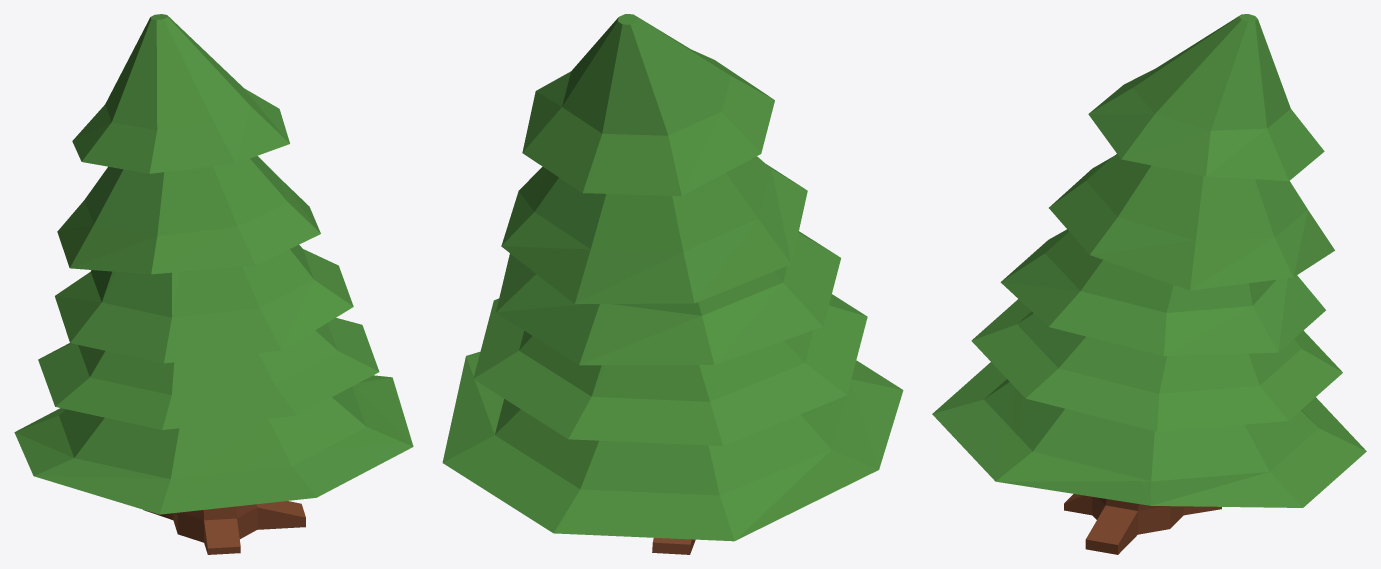
File: Ptree2.fbx
3 views of the same model, side by side, from view 1: azimuth 30°, elevation 25°; view 2: azimuth 150°, elevation 25°; view 3: azimuth 270°, elevation 25° (orthographic). The views are drawn at different scales.
Visible parts, largest first — view 1: pCylinder5; view 2: pCylinder5; view 3: pCylinder5.
Part boxes in pixels (box(x1,y1,x2,y2)): pCylinder5: box(14, 14, 413, 554); pCylinder5: box(442, 14, 903, 554); pCylinder5: box(932, 14, 1366, 554).
Bounding box in the file's own units: 4.78 × 6 × 4.76.
1 material, 1 textured.
